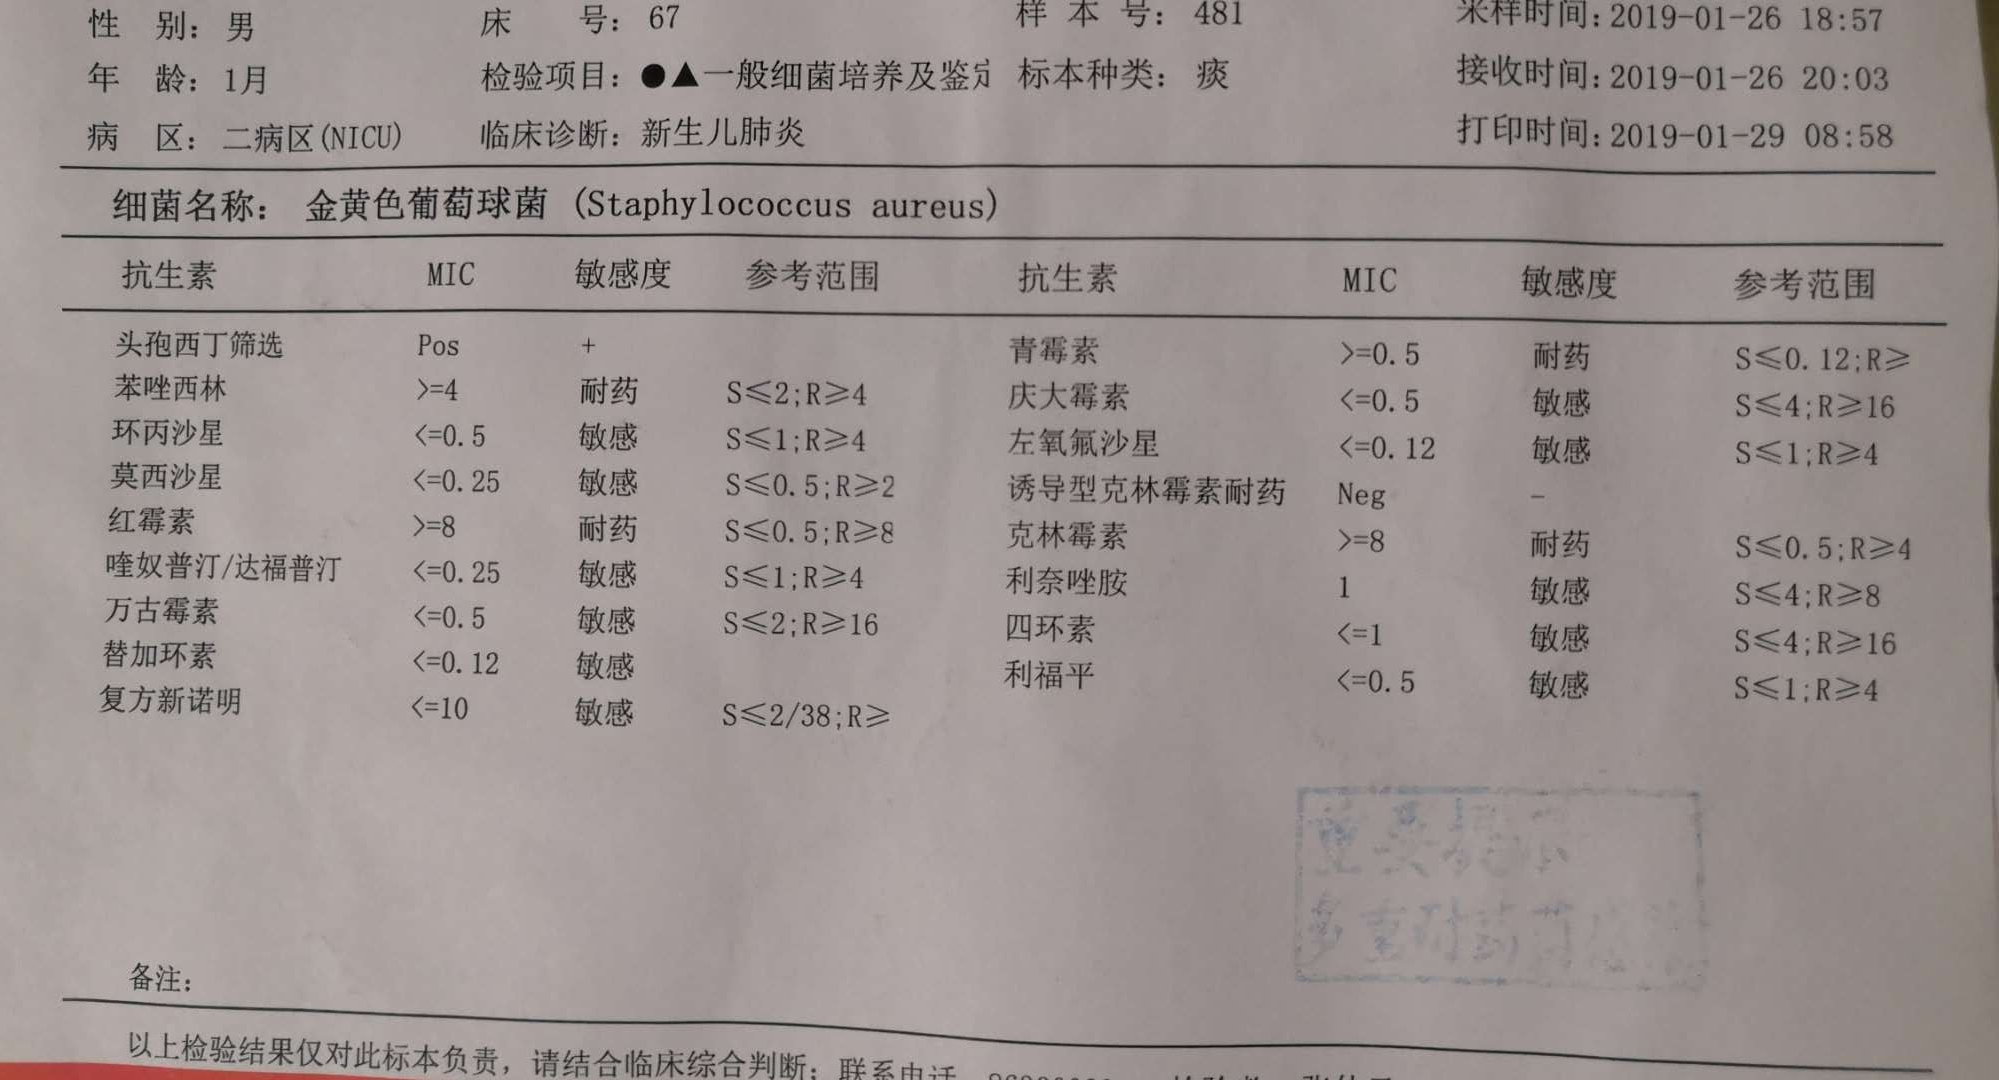table: (58, 234, 1949, 767)
